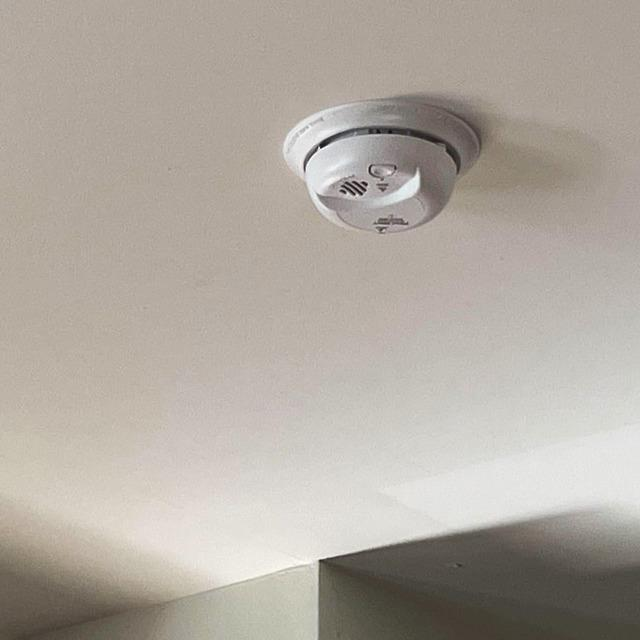Smoke-Detector: (276, 90, 488, 242)
